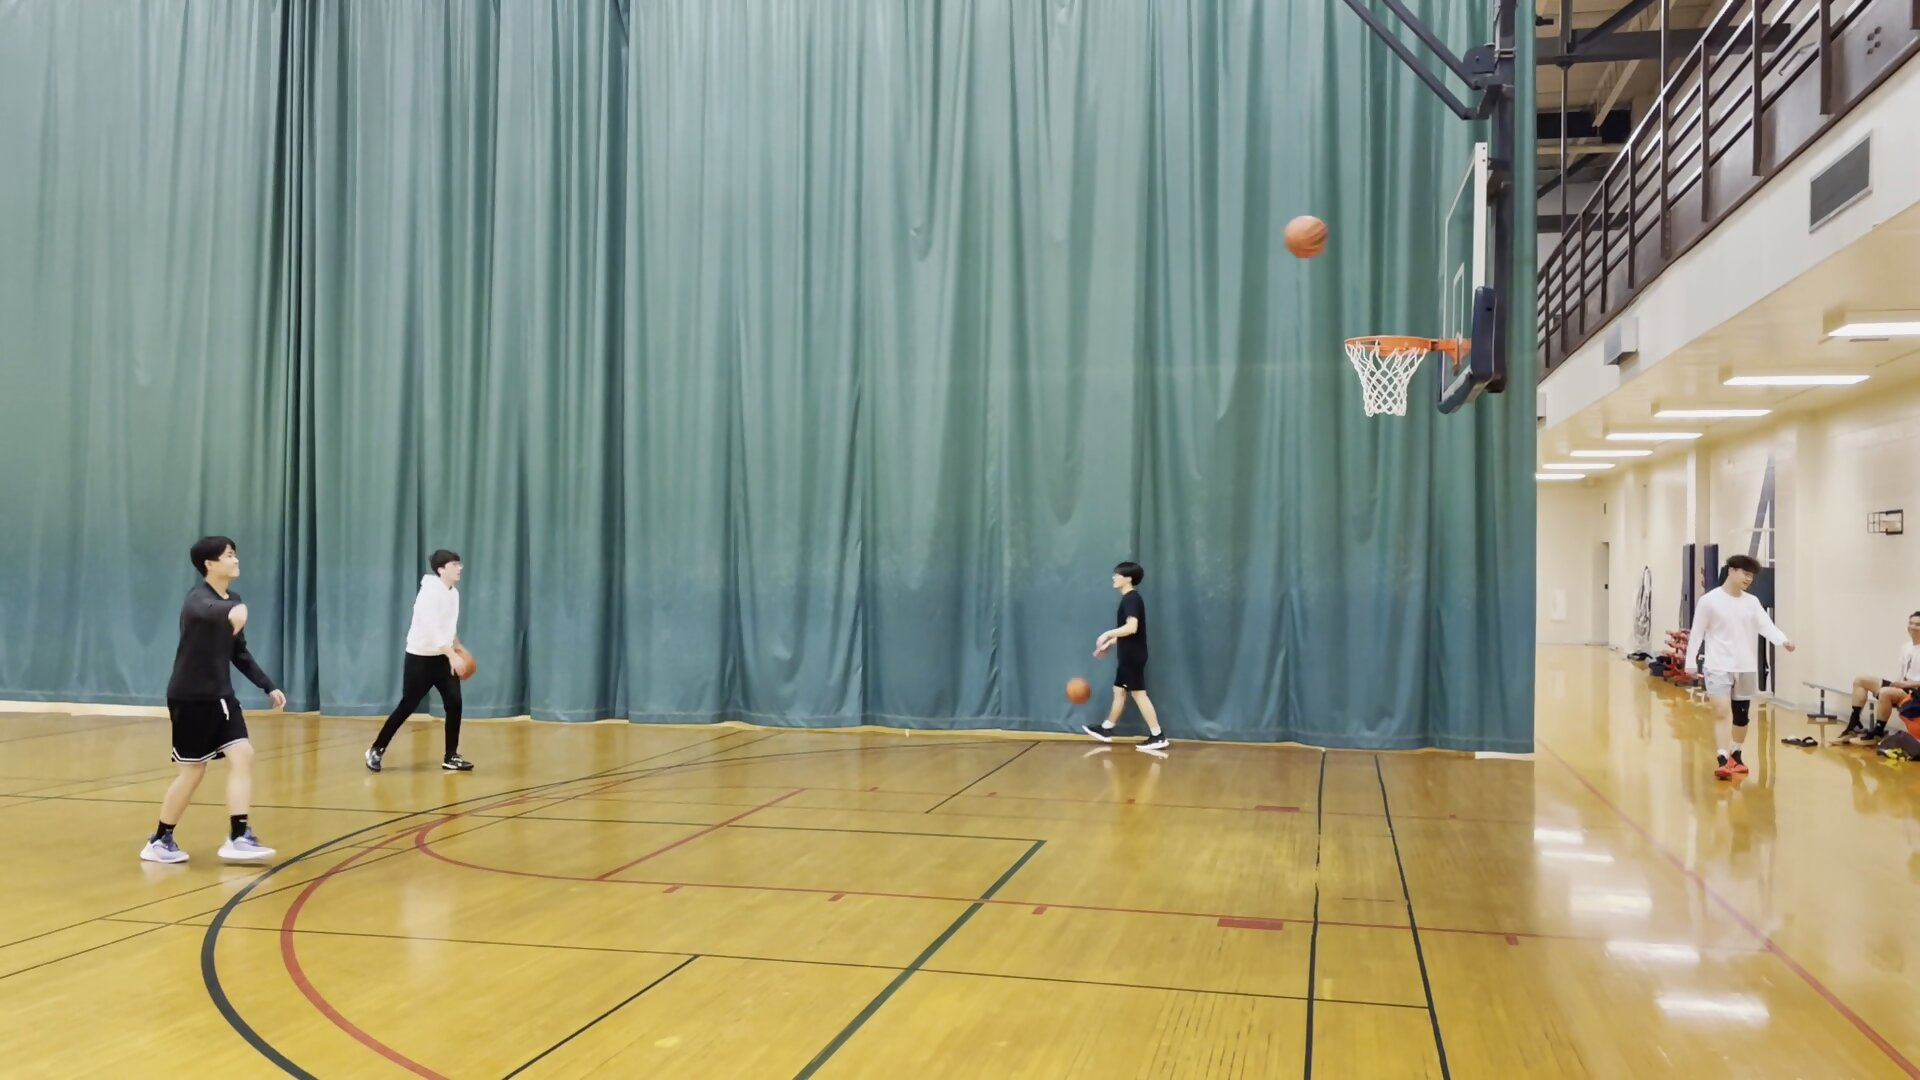ball: (1282, 215, 1329, 260), (1064, 677, 1089, 706)
net: (1357, 388, 1417, 420)
player: (145, 529, 277, 869), (1673, 553, 1791, 791), (372, 548, 476, 773), (1089, 557, 1169, 758), (1839, 611, 1920, 754)
rim: (1338, 334, 1434, 360)
